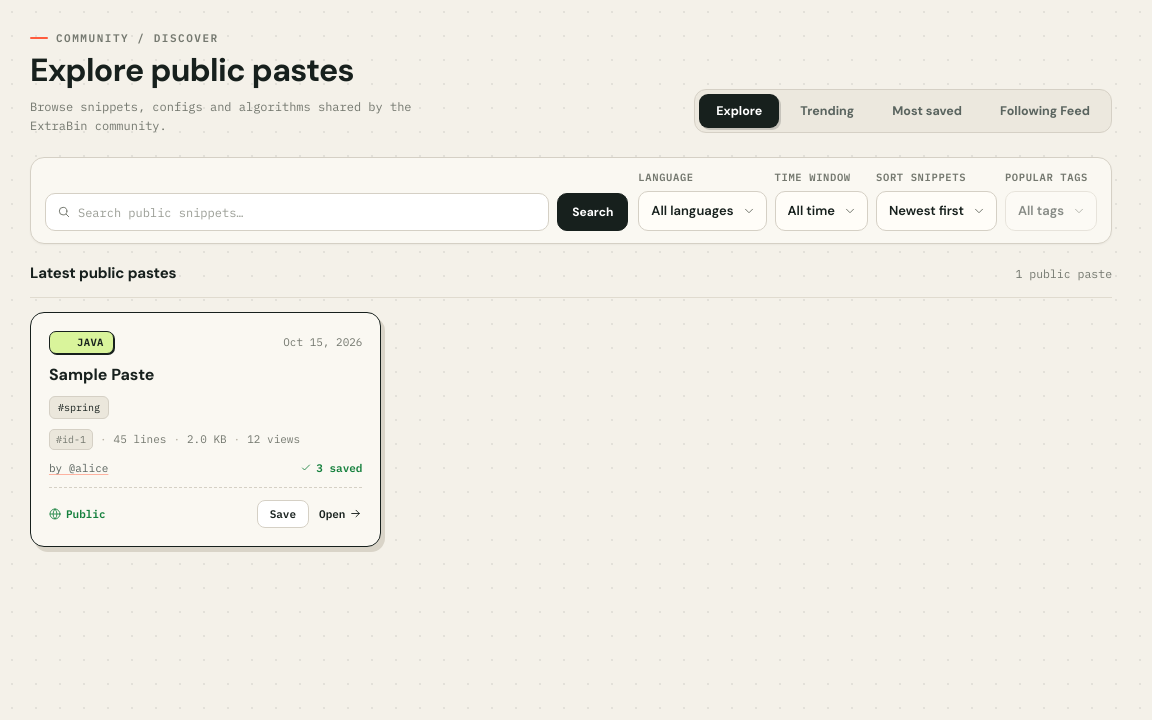
Test: DiscoveryPage redesign contract › RED-D15 failedSave_doesNotMarkSavedAndReportsFailure
This screenshot has width=1152, height=720.
Step 1. Click the button named "Save snippet Sample Paste" → (283, 514), box [257,500,309,528]
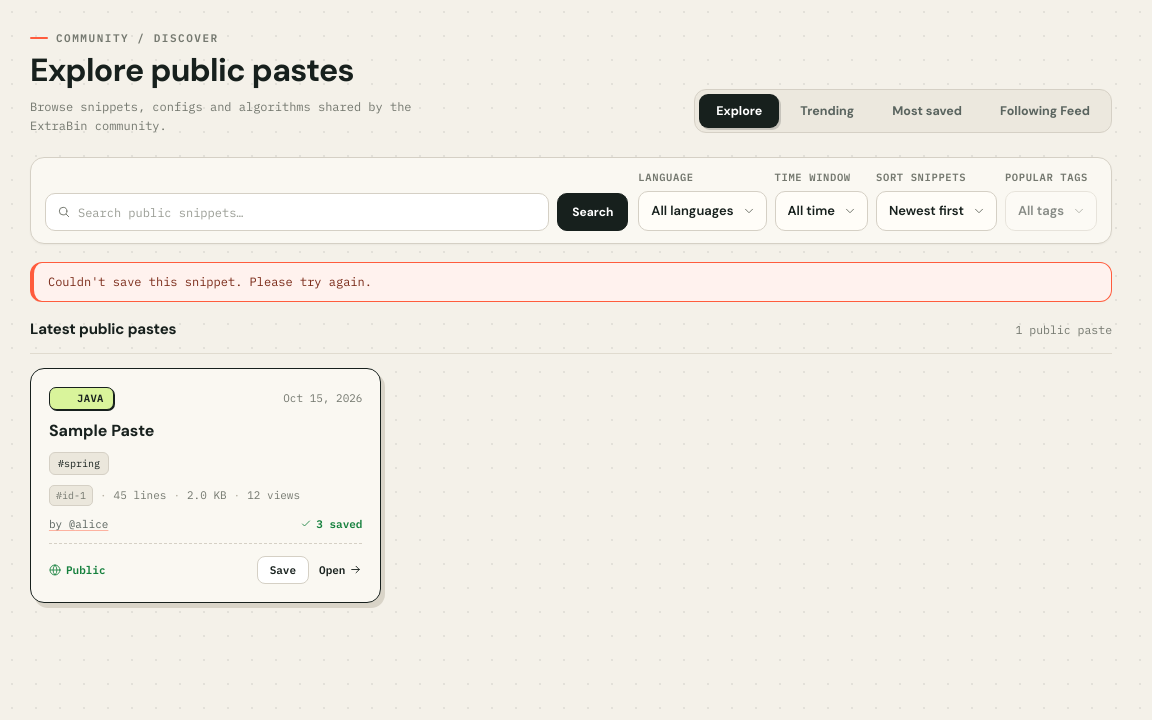
Expected: the button named "Save snippet Sample Paste" is shown, [257,556,309,584]
Now the text "Couldn't save this snippet. Please try again." is shown, box [48,273,372,291]
